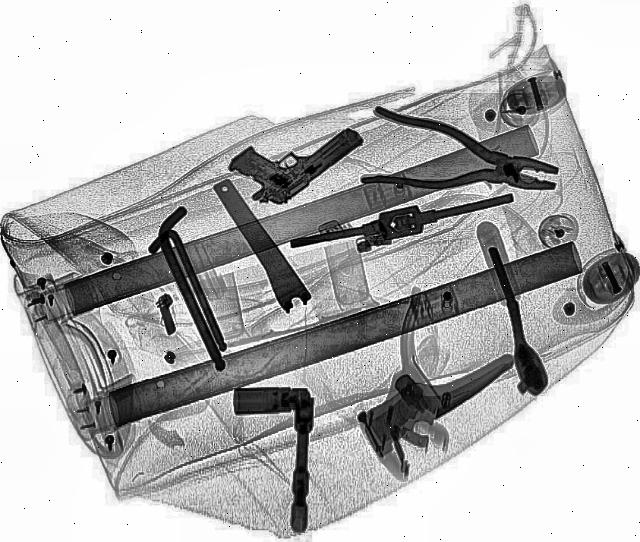Gun: (218, 99, 369, 217)
Pliers: (353, 106, 569, 216)
